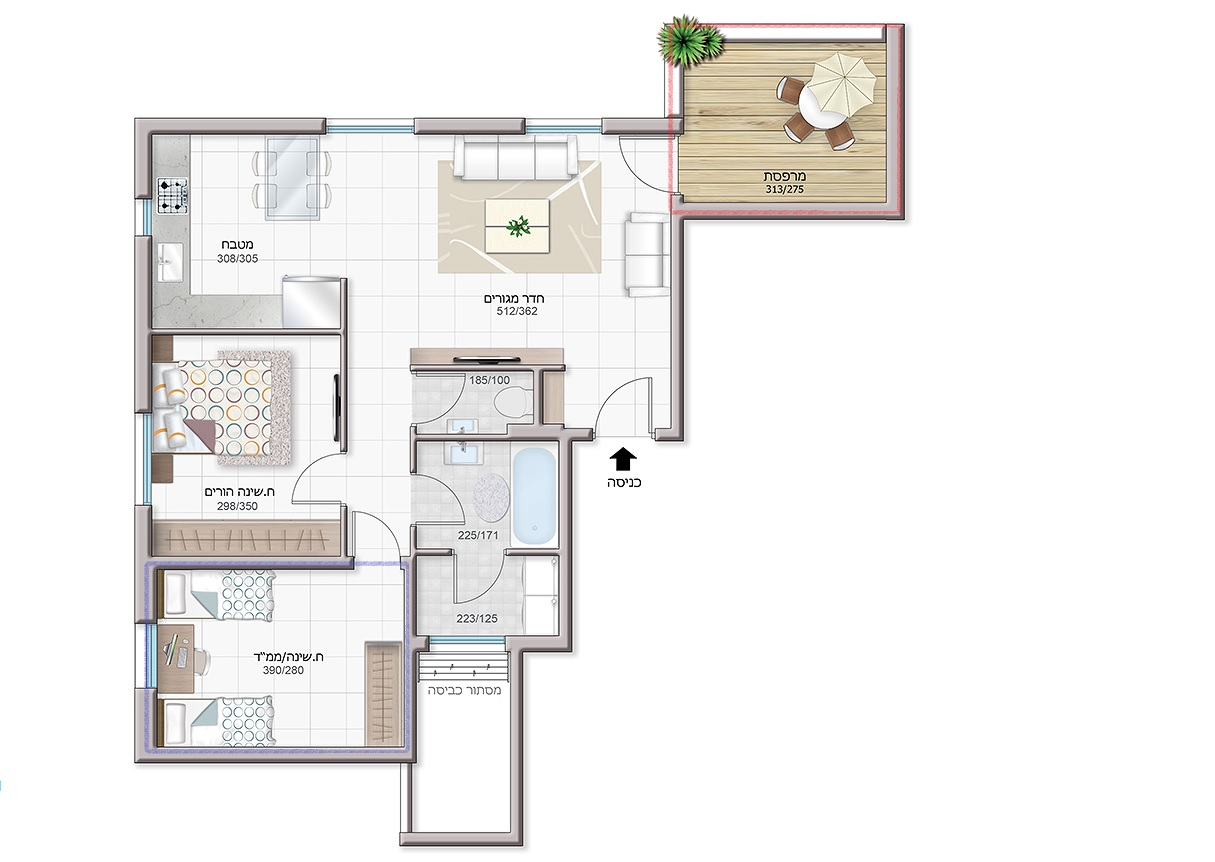balcony: (666, 16, 904, 219)
no: (372, 122, 675, 439), (141, 335, 343, 555), (138, 131, 347, 332), (425, 439, 568, 556)
securityroom: (134, 557, 416, 762)
